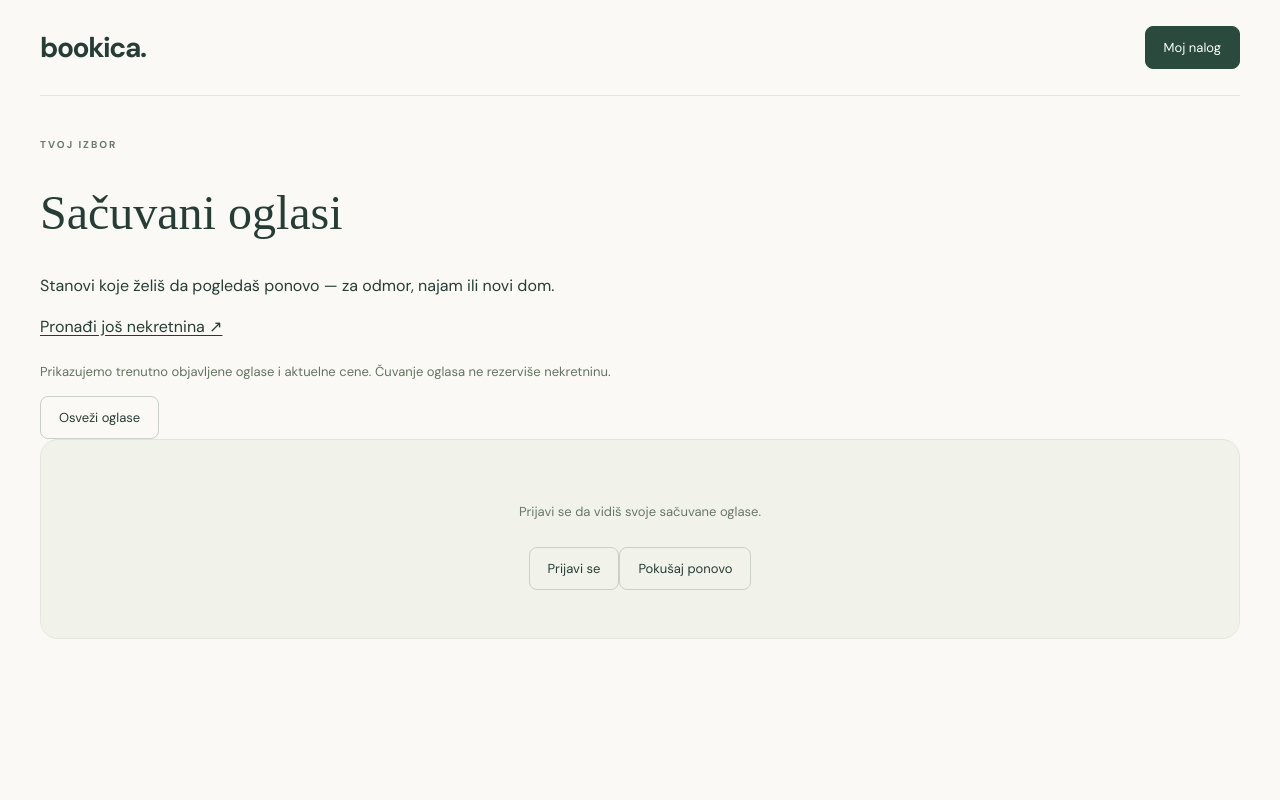
Test: shows login and empty states on the saved page
Click the button "Pokušaj ponovo" at (685, 568), box x1=619 y1=547 x2=751 y2=590
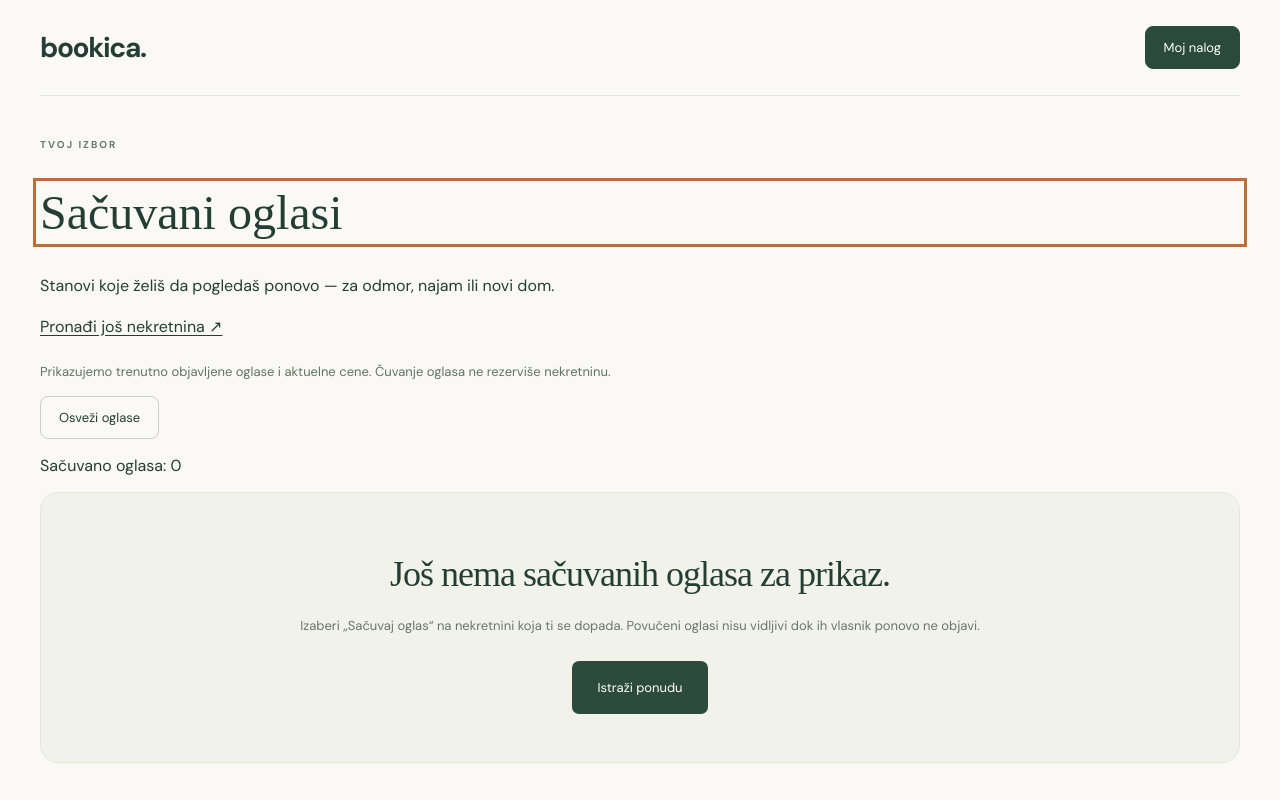
Check: the heading "Još nema sačuvanih oglasa za prikaz." is shown, box x1=390 y1=554 x2=890 y2=594
